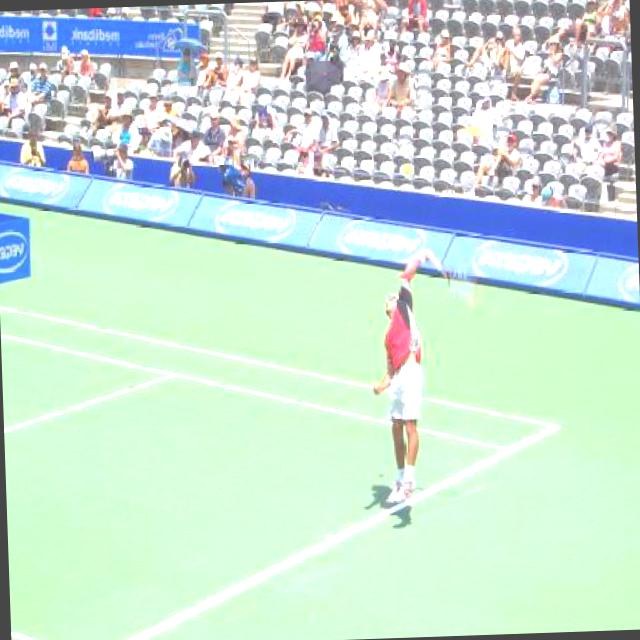Person: (0, 0, 636, 232), (368, 247, 441, 503), (472, 131, 522, 187), (218, 54, 262, 103), (567, 121, 603, 175), (595, 121, 621, 177), (24, 62, 52, 110), (168, 149, 196, 188), (18, 128, 44, 166), (112, 140, 134, 182), (65, 141, 89, 174), (239, 162, 257, 200), (520, 174, 542, 204)
